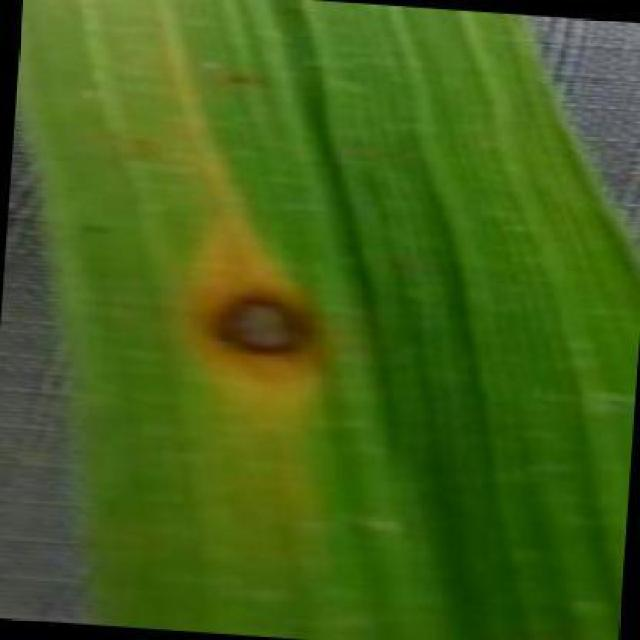Leaf_Blast: (158, 238, 362, 396), (212, 53, 277, 101), (67, 208, 122, 248), (117, 116, 161, 153)
